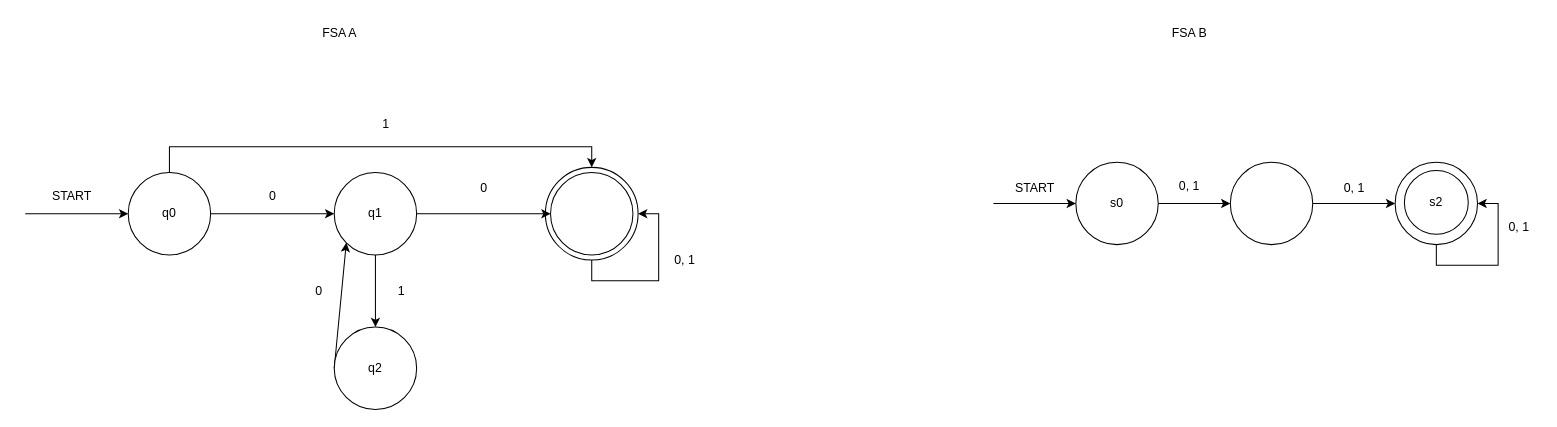
Image size: 1557x427. Some labels were removed from this diagram. Here are the shapes that lost their labels. From the top down, the box of each, then its label:
(550, 171, 633, 255): q3
(1229, 161, 1313, 245): s1
